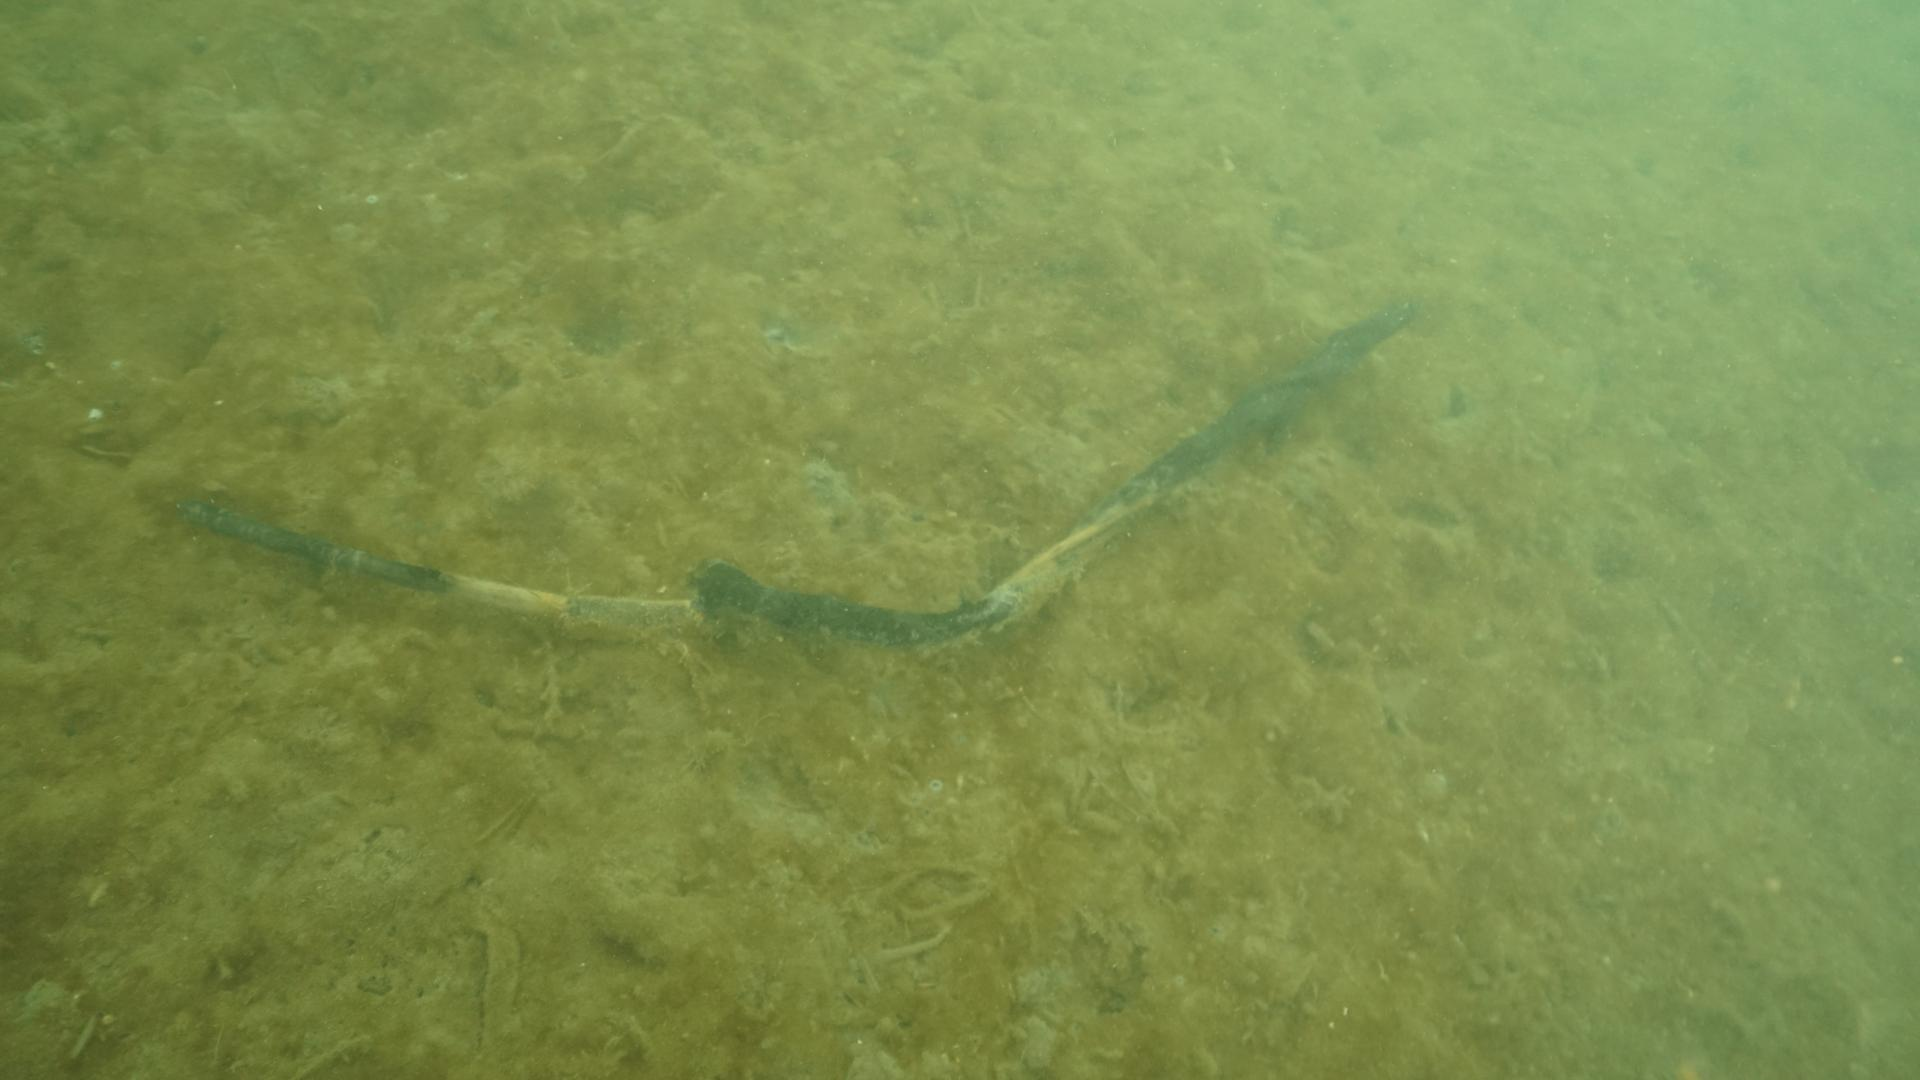wood: (145, 301, 1422, 644)
